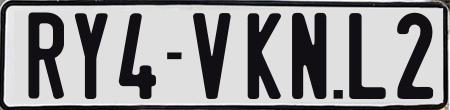2: (394, 13, 432, 99)
4: (116, 10, 158, 99)
K: (246, 11, 285, 98)
L: (349, 12, 389, 99)
N: (290, 13, 329, 103)
R: (25, 10, 64, 97)
V: (193, 10, 235, 99)
Y: (72, 10, 107, 97)
